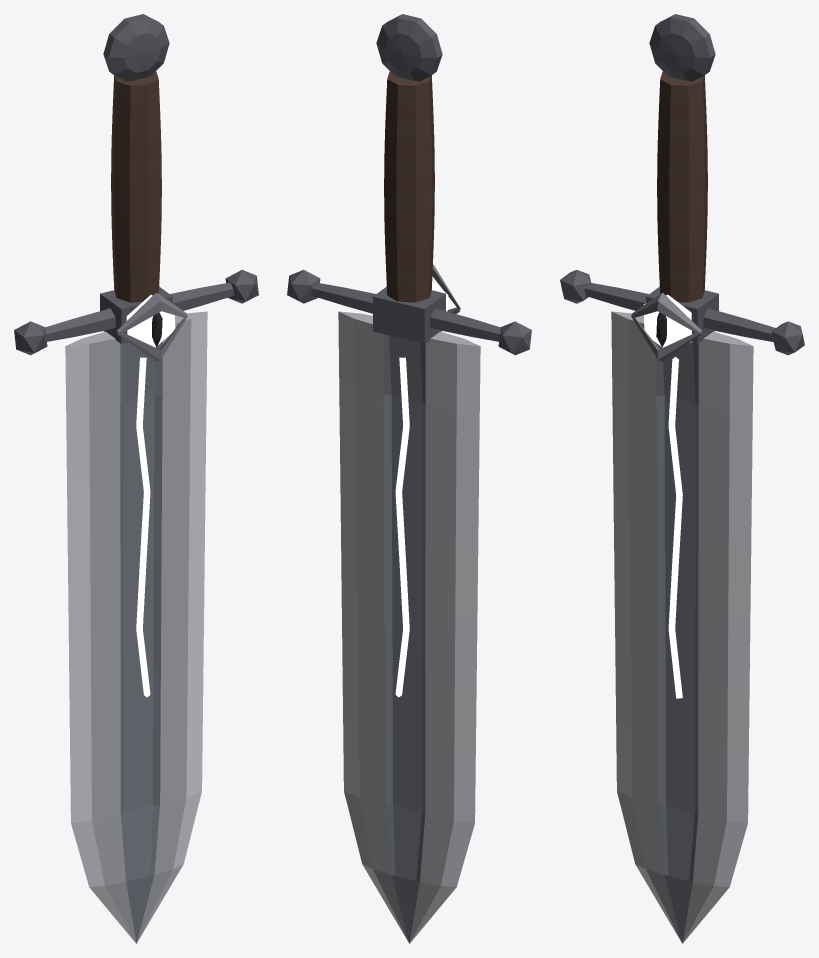
The model's file is blade-broad-blade.glb.
3 views of the same model, side by side, from view 1: azimuth 30°, elevation 25°; view 2: azimuth 150°, elevation 25°; view 3: azimuth 330°, elevation 25° (orthographic).
Parts seen in each view (by area): view 1: blade-broad-blade, blink_eye, pulse_vein; view 2: blade-broad-blade, pulse_vein; view 3: blade-broad-blade, blink_eye, pulse_vein.
Boxes of the visible parts, x1,y1,x2,y2 form: blade-broad-blade: (14,14,258,943); blink_eye: (117,292,187,361); pulse_vein: (136,357,150,697); blade-broad-blade: (287,14,531,943); pulse_vein: (395,357,409,697); blade-broad-blade: (560,14,804,943); blink_eye: (631,292,701,361); pulse_vein: (668,356,682,698).
Size of the model in its own units: 0.3254 by 1.2 by 0.0892.
